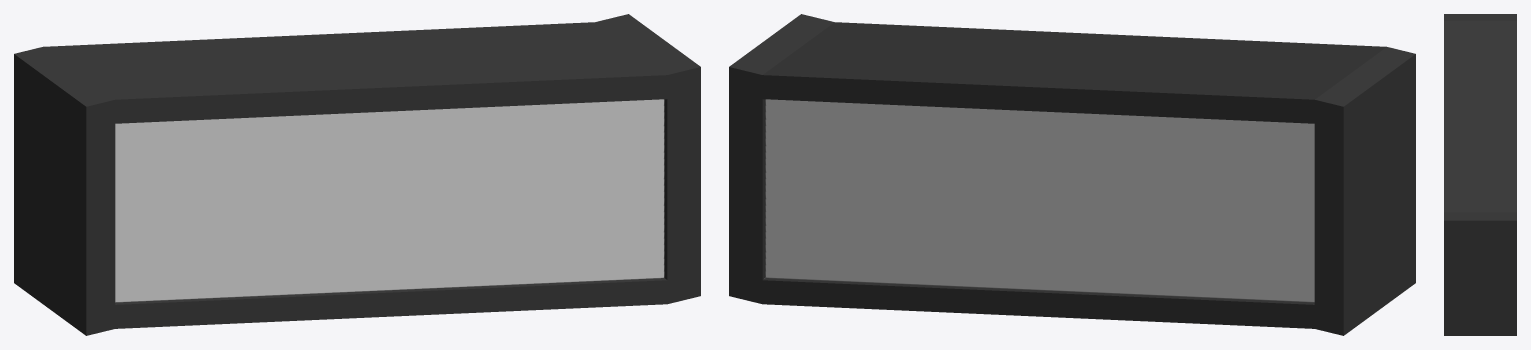
File: bridge_b1_MESH.fbx
3 views of the same model, side by side, from view 1: azimuth 30°, elevation 25°; view 2: azimuth 150°, elevation 25°; view 3: azimuth 270°, elevation 25° (orthographic). The views are drawn at different scales.
Visible parts, largest first — view 1: bridge_b1_MESH; view 2: bridge_b1_MESH; view 3: bridge_b1_MESH.
Part boxes in pixels (left/top/right/bottom): bridge_b1_MESH: left=14, top=14, right=700, bottom=335; bridge_b1_MESH: left=729, top=14, right=1415, bottom=335; bridge_b1_MESH: left=1444, top=14, right=1516, bottom=335.
Bounding box in the file's own units: 1920 × 391 × 1013.
